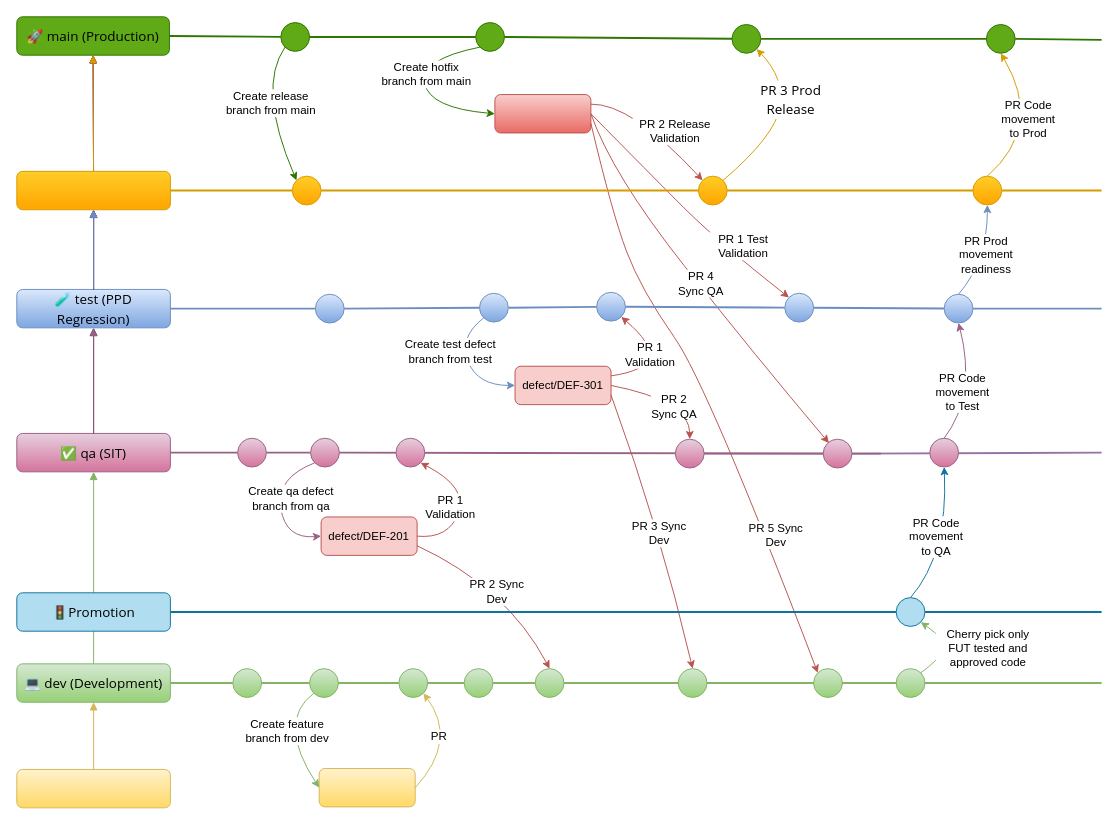
Some shapes in this 1120 by 825 pixel diagram are drawn without their labels. Here are the shapes that lost their labels. From the top down, the centre of each, then its label:
At point (542, 113): "hotfix/HF-001".
At point (93, 190): "📦 release (Merge Validation)".
At point (93, 788): "feature/*".
At point (366, 787): "feature/CR-101".
